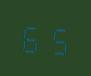five: (45, 20, 70, 57)
six: (19, 18, 44, 55)
